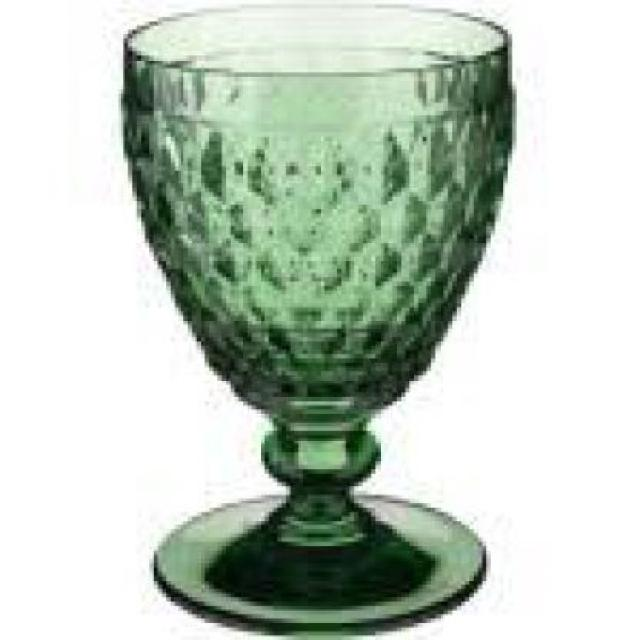GLASS: (119, 0, 511, 635)
